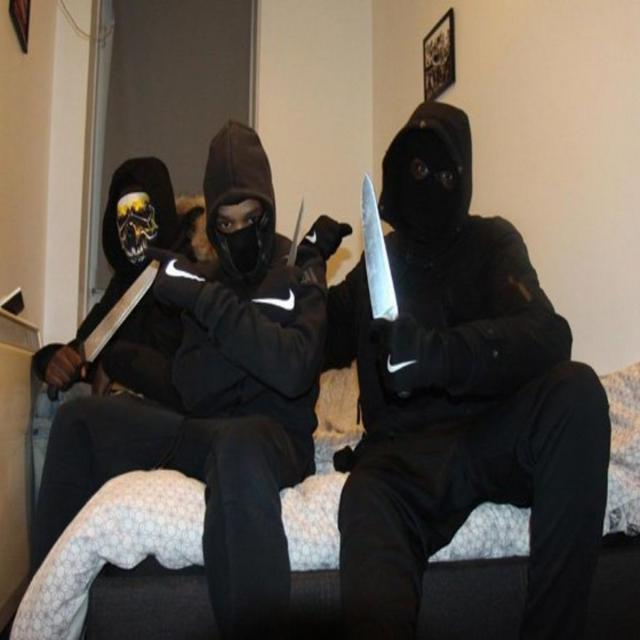Knife_Handle: (47, 255, 161, 395), (361, 174, 417, 400), (262, 195, 307, 322)
